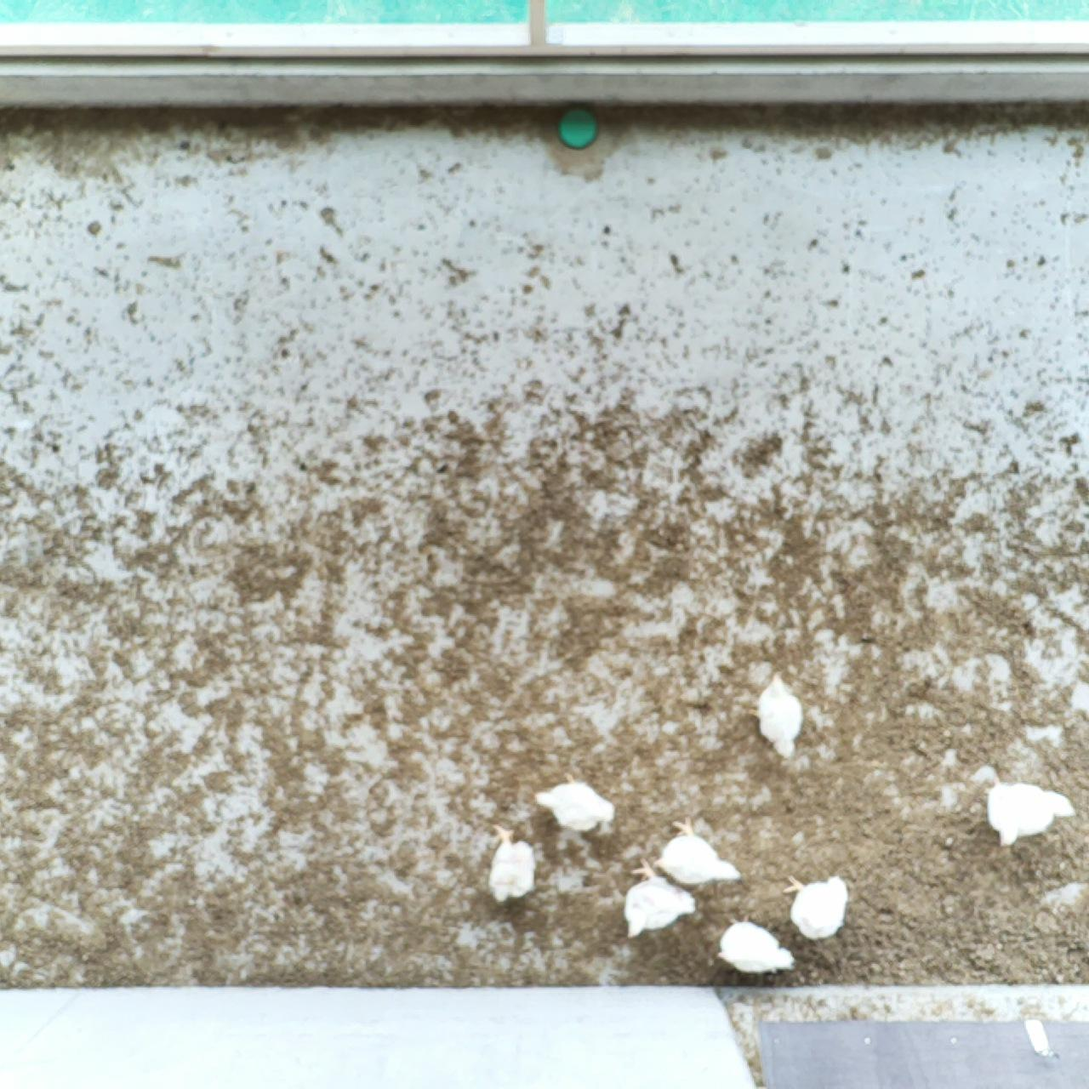chicken: (983, 777, 1078, 849), (618, 858, 698, 941), (654, 818, 746, 889), (531, 768, 618, 835), (781, 871, 853, 942), (713, 911, 795, 973), (746, 670, 802, 759), (485, 822, 539, 902)
